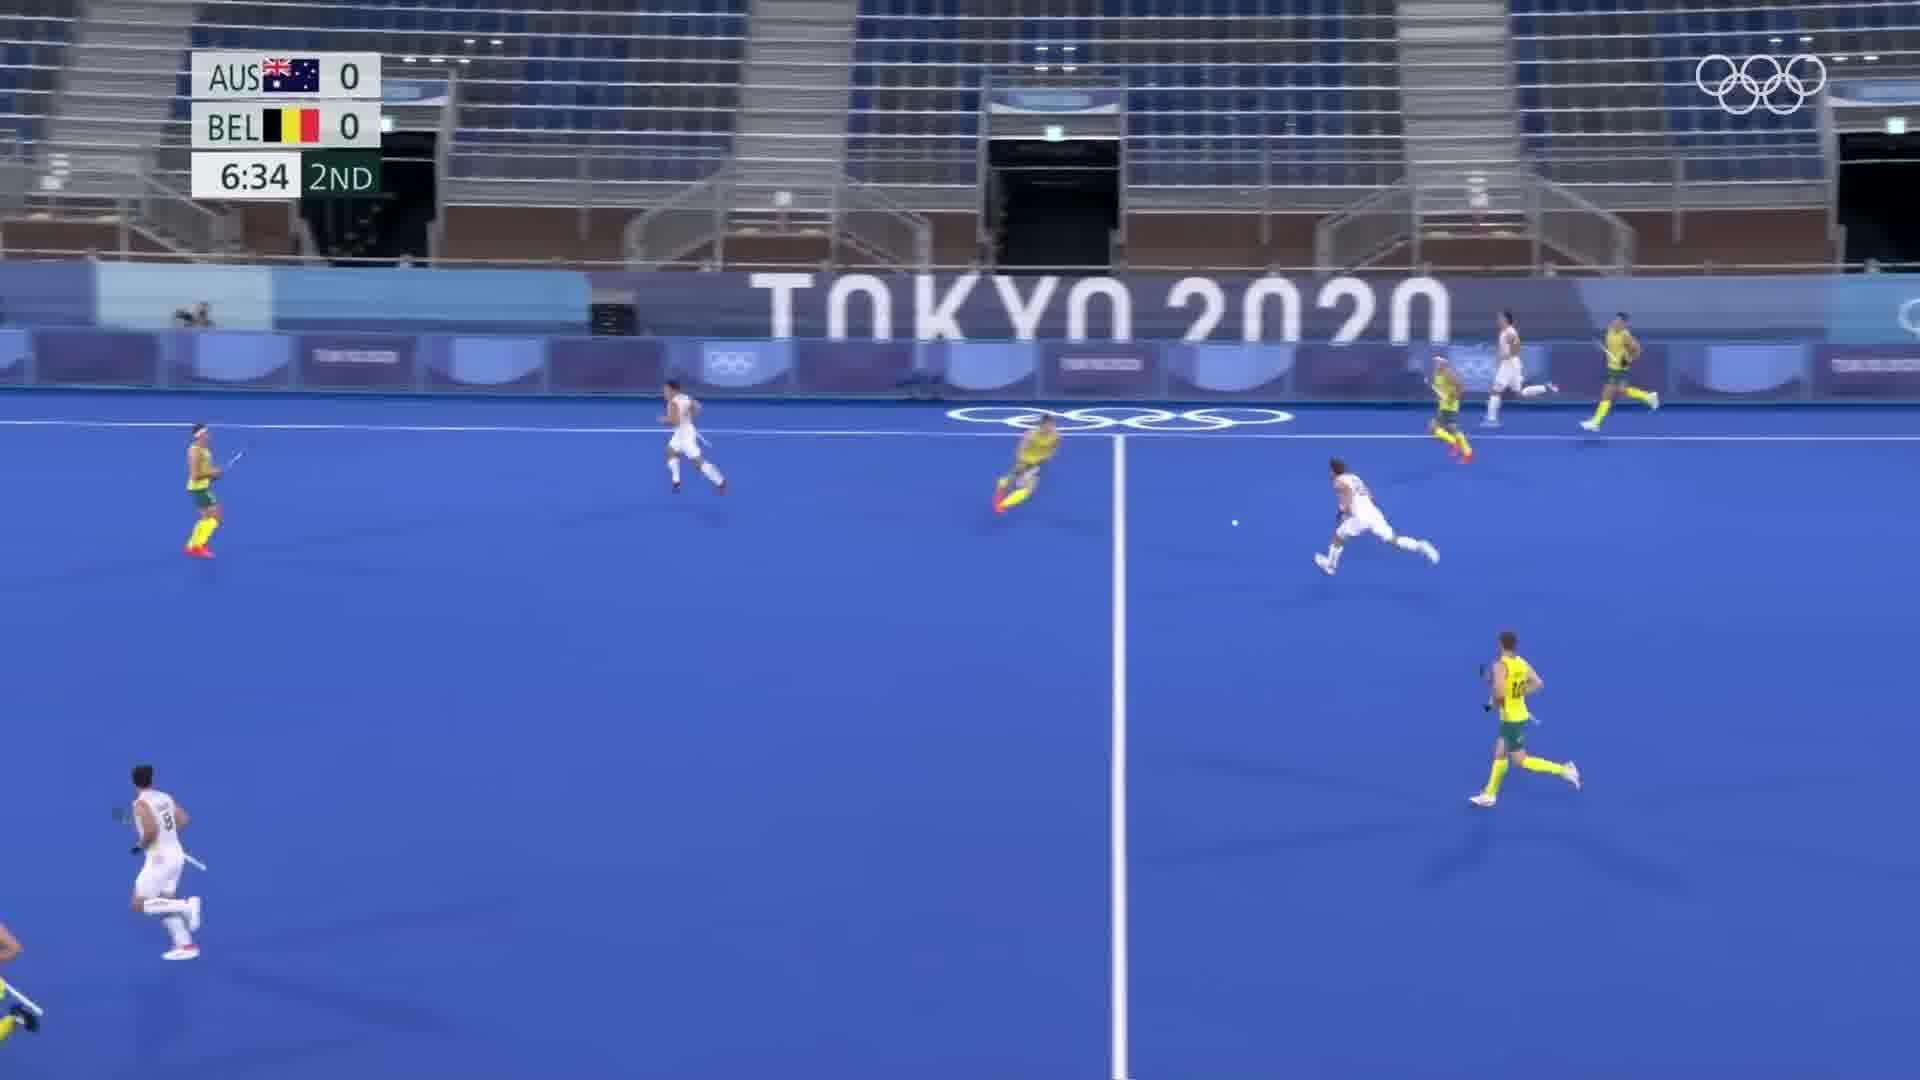ball: (1230, 517, 1241, 530)
